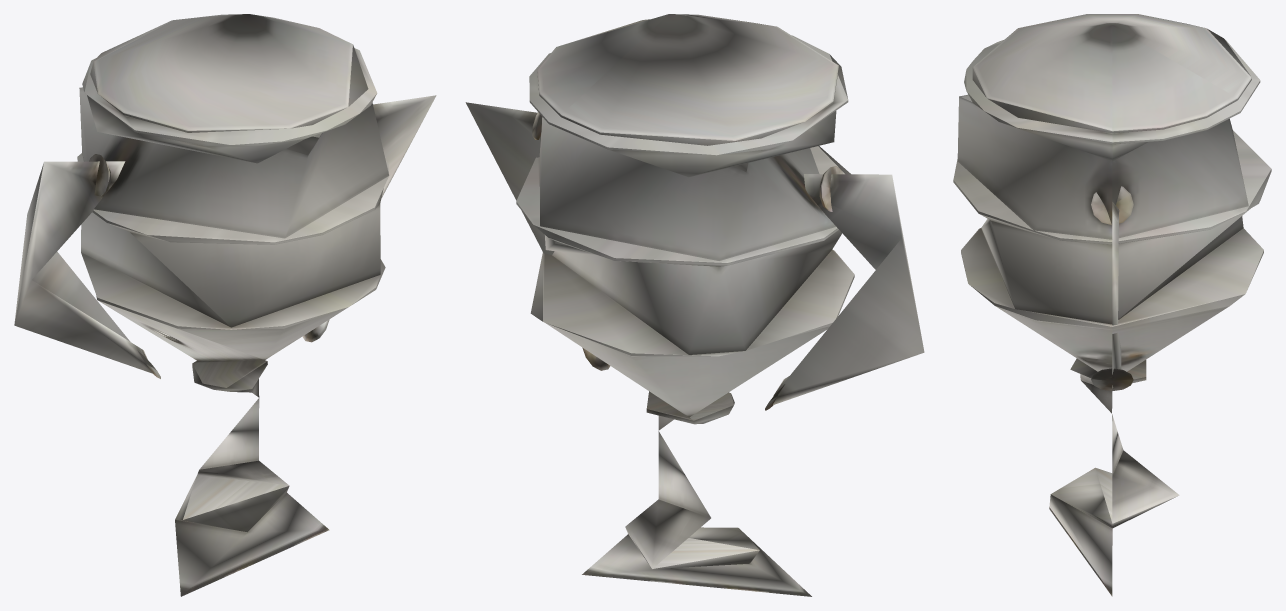
The model's file is trophy-cup-tall.glb.
3 renders of one model, left to right at view 1: azimuth 30°, elevation 25°; view 2: azimuth 150°, elevation 25°; view 3: azimuth 270°, elevation 25°, orthographic. The views are drawn at different scales.
Parts seen in each view (by area): view 1: cup; view 2: cup; view 3: cup.
Boxes of the visible parts, box(x1,y1,x2,y2) form: cup: box(14, 14, 436, 596); cup: box(465, 14, 924, 596); cup: box(953, 14, 1271, 596).
Bounding box in the file's own units: 0.2264 × 0.2744 × 0.1486.
Materials: 1 (1 with a texture image).
